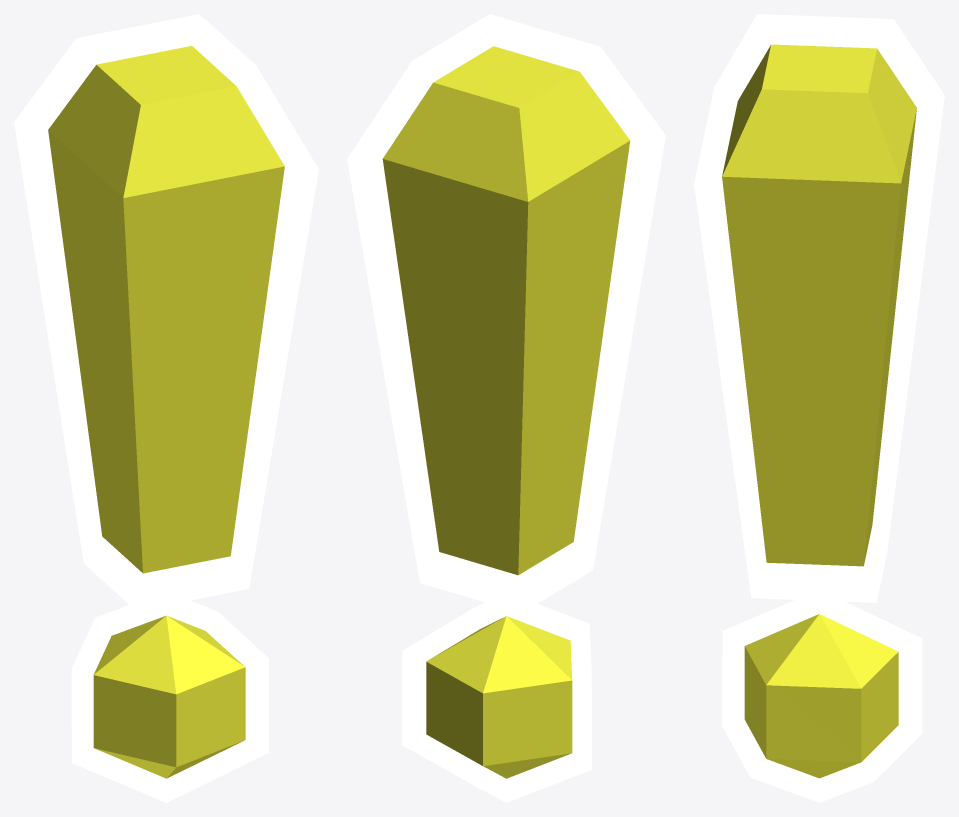
File: npc_marker.glb
3 views of the same model, side by side, from view 1: azimuth 30°, elevation 25°; view 2: azimuth 150°, elevation 25°; view 3: azimuth 270°, elevation 25° (orthographic).
Parts seen in each view (by area): view 1: Object_5; view 2: Object_5; view 3: Object_5.
Part boxes in pixels (x1,y1,x2,y2): Object_5: (14, 14, 318, 802); Object_5: (347, 14, 665, 802); Object_5: (694, 14, 944, 802).
Bounding box in the file's own units: 0.2764 × 0.9206 × 0.2764.
